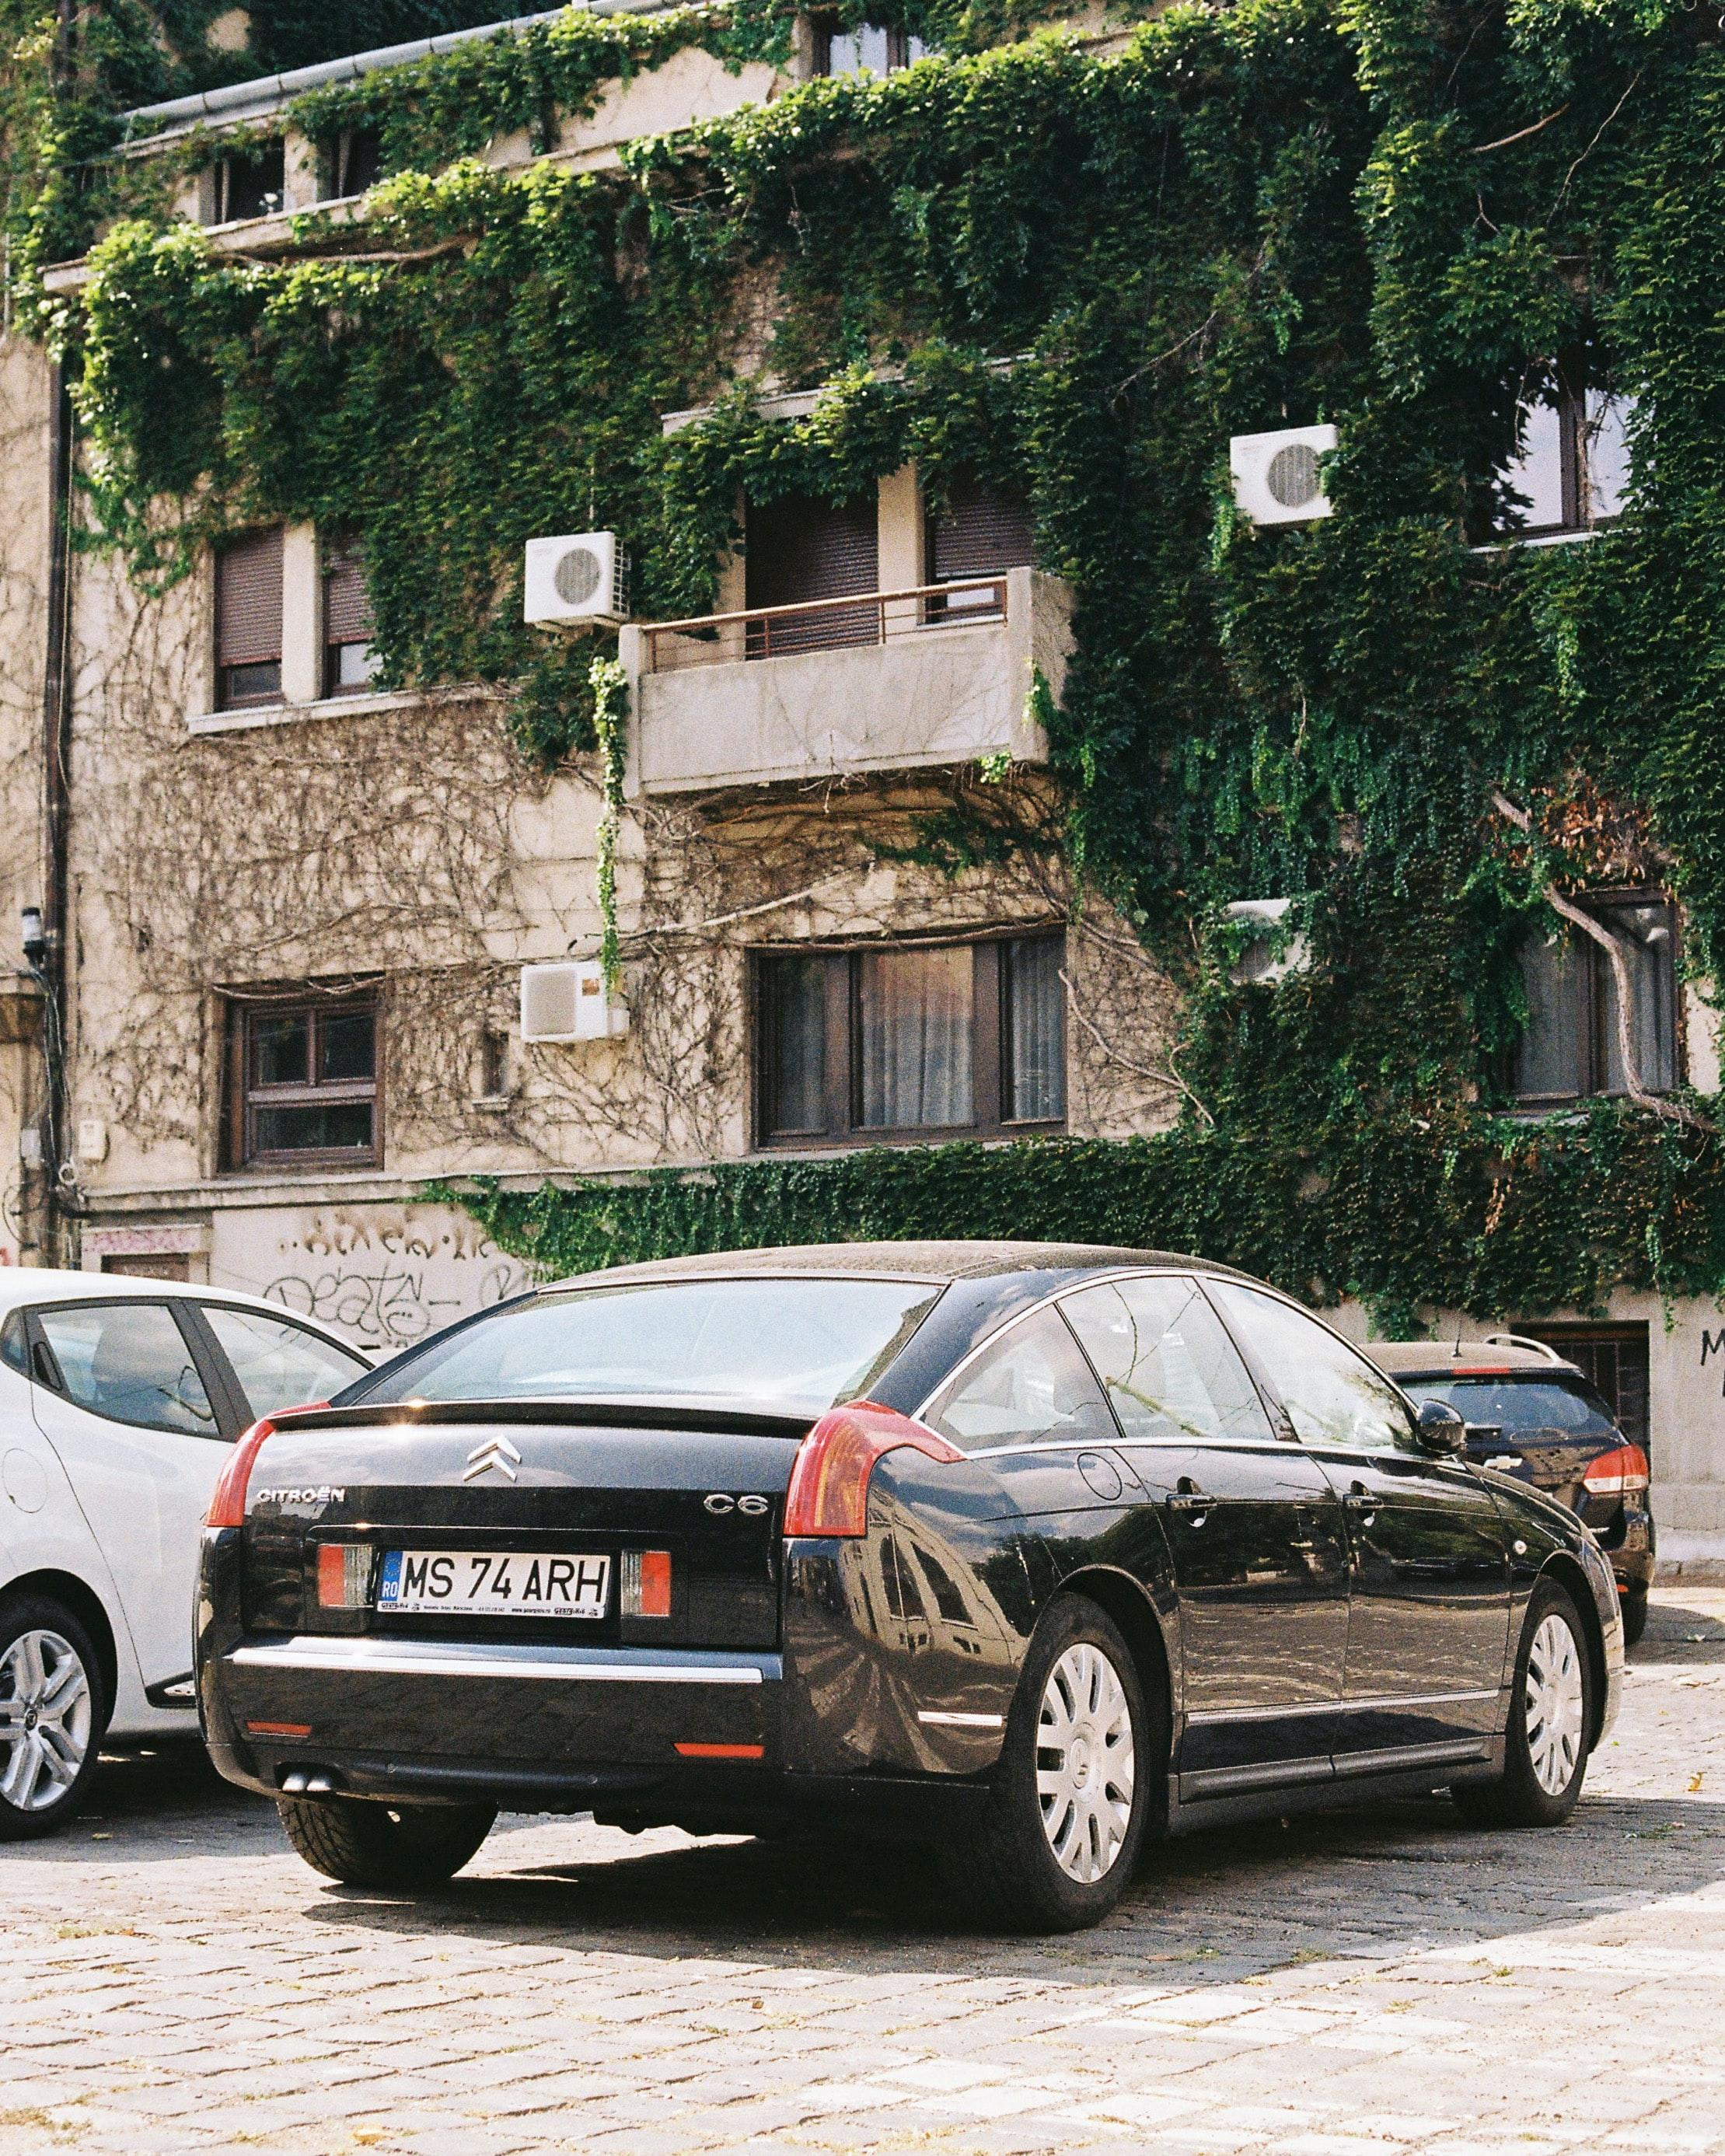Citroen: (444, 1420, 553, 1514)
chevrolet: (1472, 1433, 1538, 1496)
